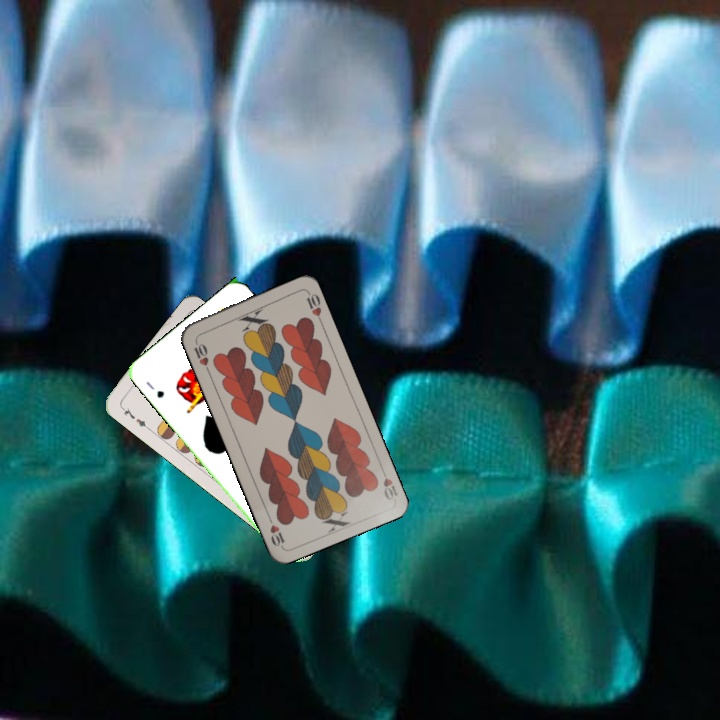E7: (117, 403, 152, 432)
GU: (142, 377, 167, 401)
H10: (377, 463, 400, 503), (190, 335, 212, 374)
